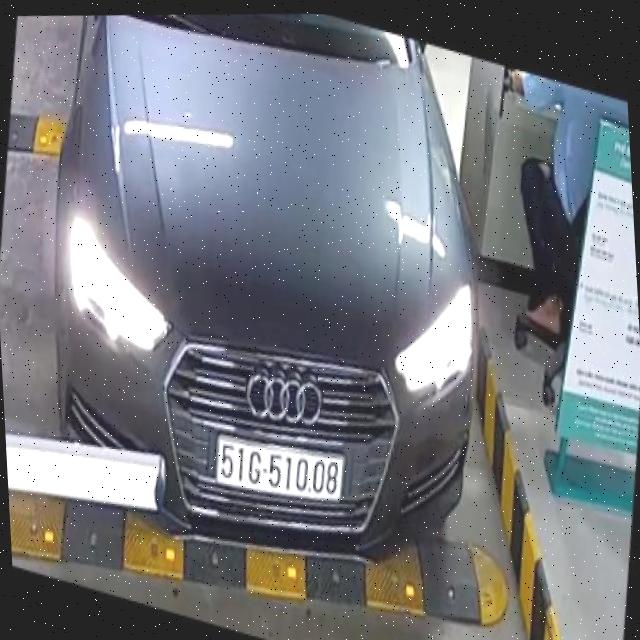car: (35, 2, 490, 593)
plate: (210, 424, 348, 511)
